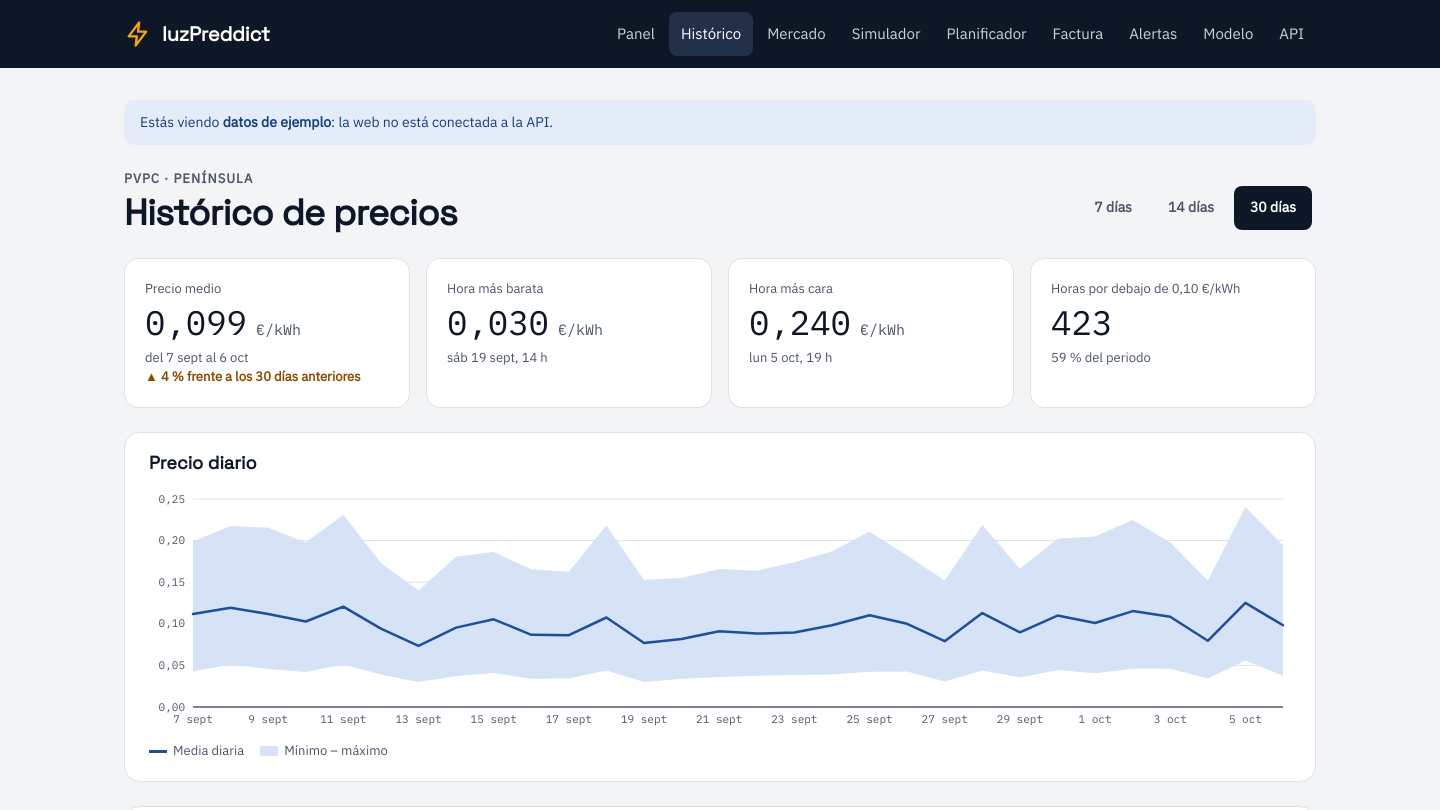
Test: Histórico › cambia de periodo y lo guarda en la dirección
Expected: the element named "Resumen del periodo" is shown, [124,258,1316,408]
Click the button "7 días" at x=1113, y=208, box [1078,186,1148,230]
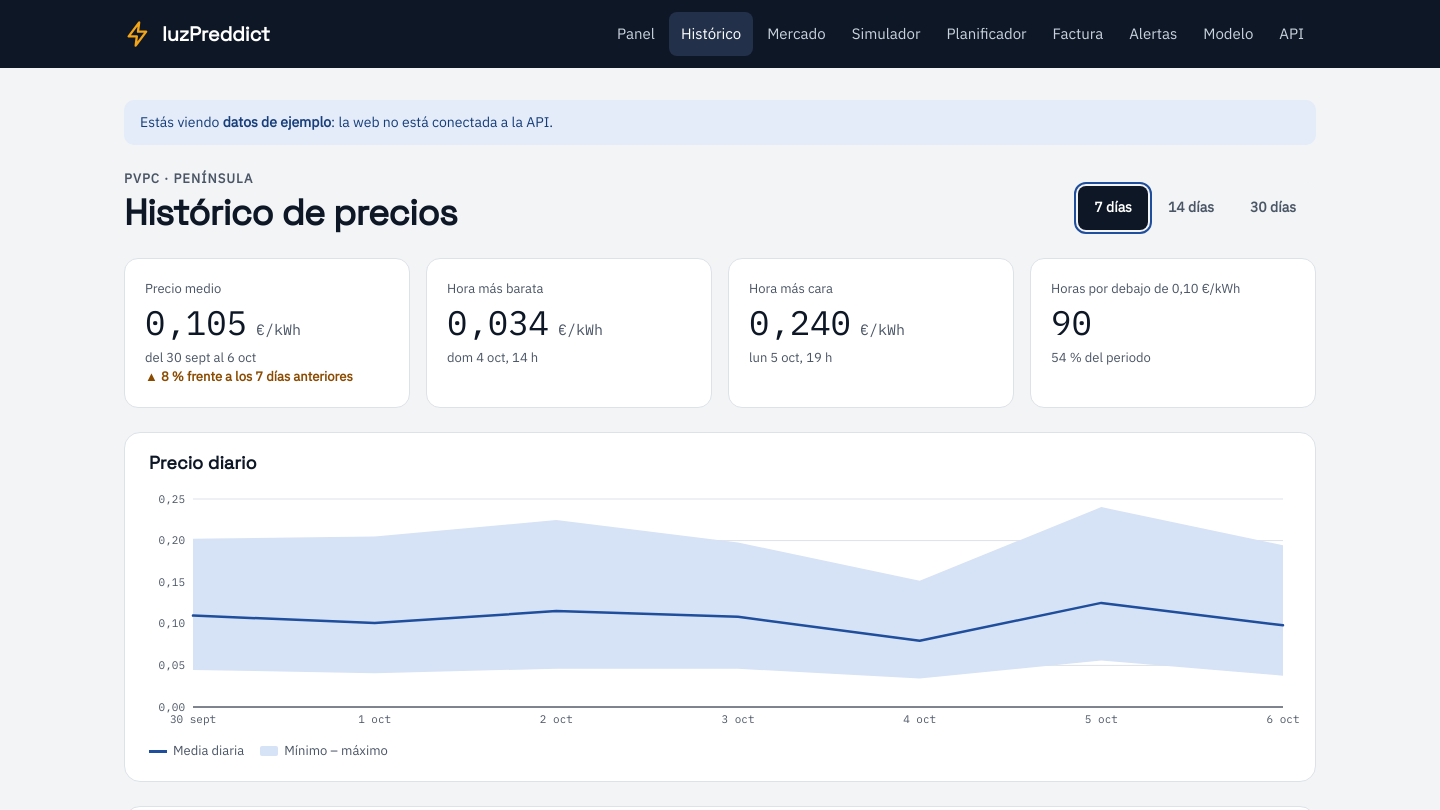
Now the element named "Resumen del periodo" shows "del 30 sept al 6 oct", box [145,349,256,366]
